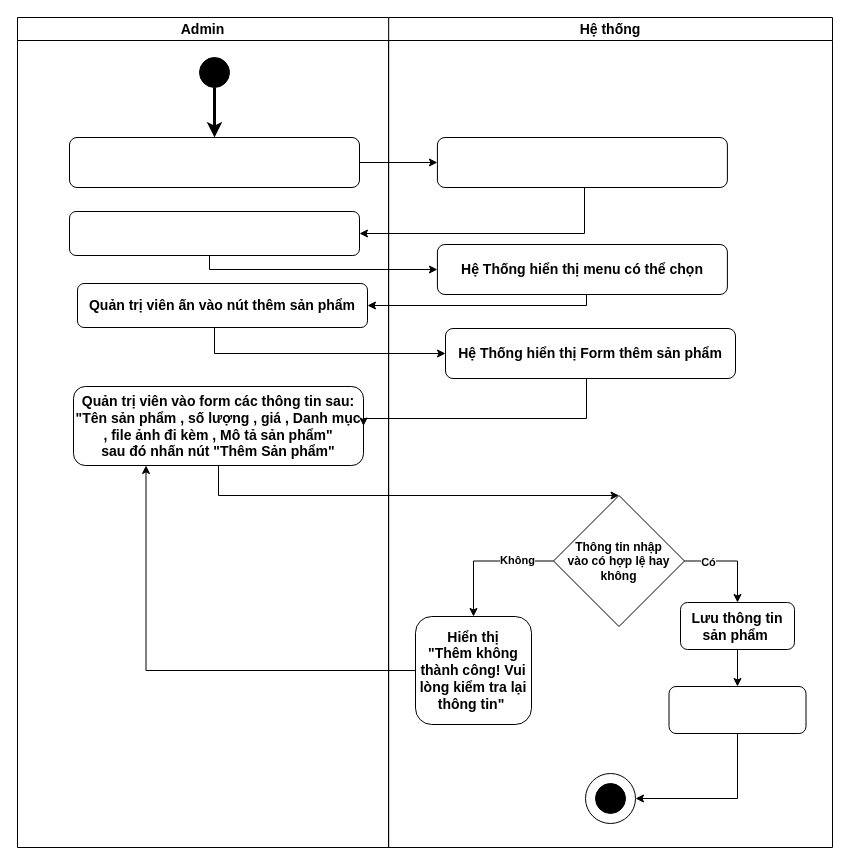
This 850x865 diagram has some shape labels left out. Here are the shapes that lost their labels. From the top down, the centre of each, then its label:
point (214, 162): Quản trị viên truy cập trang quản trị
point (581, 162): Hệ thống hiển trị trang dành cho quản trị viên
point (214, 233): Quản trị viên ấn vào nút sản phẩm
point (737, 710): Hiển thị "Thêm thành công"
